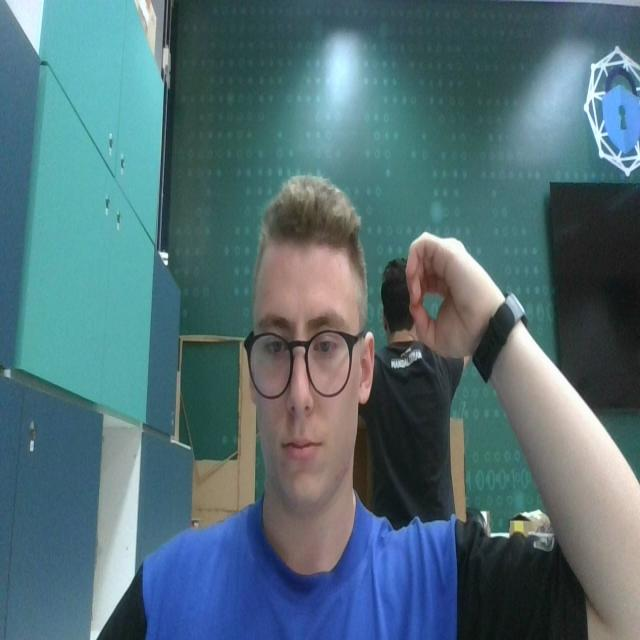O: (402, 219, 496, 368)
